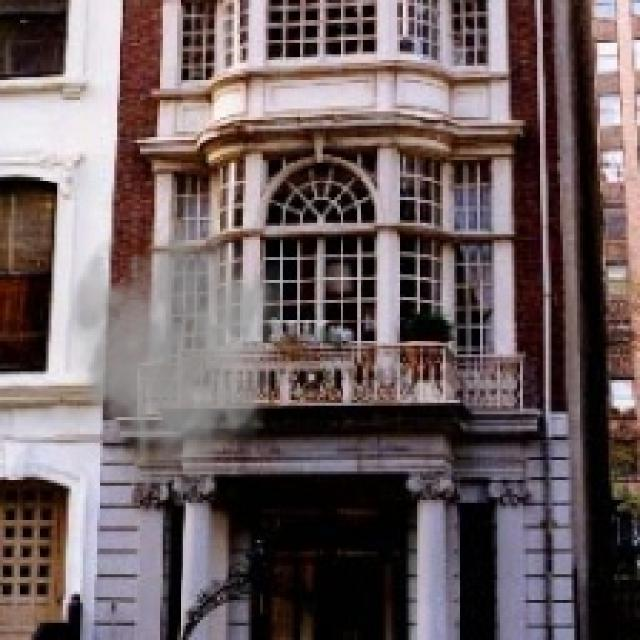smoke: (54, 212, 283, 494)
